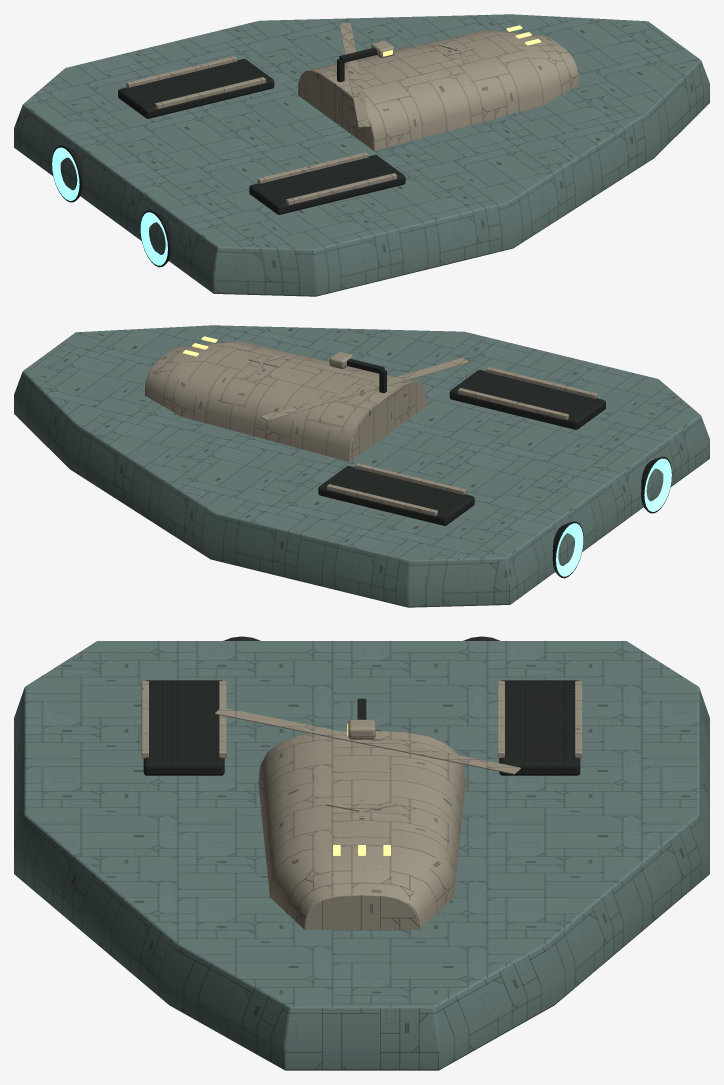
Rendered from towline_kit.glb.
3 views of the same model, one above another, from view 1: azimuth 30°, elevation 25°; view 2: azimuth 150°, elevation 25°; view 3: azimuth 270°, elevation 25° (orthographic). The views are drawn at different scales.
Visible parts, largest first — view 1: LOD0_Hull, LOD0_Armor, LOD0_MechanicalDark, LOD0_HOOK_DRIVE_CORE, LOD0_Livery, LOD0_MOTION_TOWLINE_ACKNOWLEDGE_MechanicalDark; view 2: LOD0_Hull, LOD0_Armor, LOD0_MechanicalDark, LOD0_Livery, LOD0_HOOK_DRIVE_CORE, LOD0_MOTION_TOWLINE_ACKNOWLEDGE_MechanicalDark; view 3: LOD0_Hull, LOD0_Armor, LOD0_MechanicalDark, LOD0_Livery.
Boxes of the visible parts, left/top/right/bottom form: LOD0_Hull: left=14, top=14, right=709, bottom=296; LOD0_Armor: left=126, top=30, right=579, bottom=205; LOD0_MechanicalDark: left=51, top=59, right=405, bottom=267; LOD0_HOOK_DRIVE_CORE: left=52, top=147, right=167, bottom=265; LOD0_Livery: left=339, top=23, right=475, bottom=127; LOD0_MOTION_TOWLINE_ACKNOWLEDGE_MechanicalDark: left=337, top=48, right=376, bottom=82; LOD0_Hull: left=14, top=325, right=709, bottom=607; LOD0_Armor: left=144, top=341, right=597, bottom=516; LOD0_MechanicalDark: left=318, top=370, right=672, bottom=578; LOD0_Livery: left=248, top=354, right=468, bottom=420; LOD0_HOOK_DRIVE_CORE: left=556, top=458, right=671, bottom=576; LOD0_MOTION_TOWLINE_ACKNOWLEDGE_MechanicalDark: left=347, top=359, right=386, bottom=393; LOD0_Hull: left=14, top=641, right=709, bottom=1070; LOD0_Armor: left=141, top=681, right=582, bottom=929; LOD0_MechanicalDark: left=143, top=636, right=580, bottom=775; LOD0_Livery: left=215, top=707, right=520, bottom=819.
Size of what is drawn, in the model's own units: 23.14 by 4.7 by 18.
Materials: 6 (4 with a texture image).
